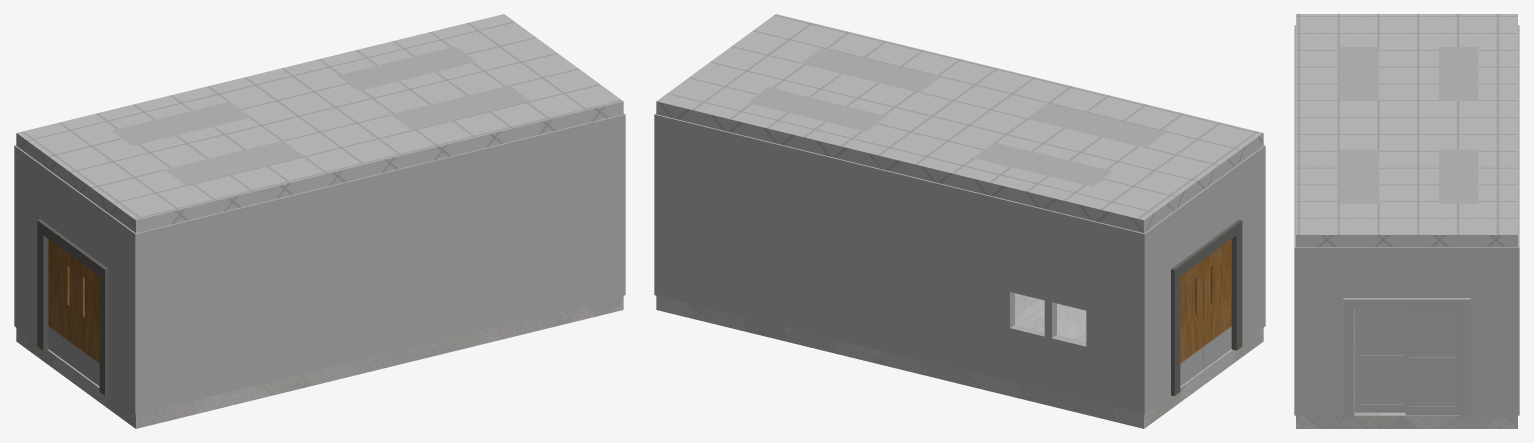
Rendered from Room.fbx.
3 views of the same model, side by side, from view 1: azimuth 30°, elevation 25°; view 2: azimuth 150°, elevation 25°; view 3: azimuth 270°, elevation 25° (orthographic). The views are drawn at different scales.
Visible parts, largest first — view 1: Cube, Cube.004, Slice.006, Cube.003, Slice.002, Slice.003, Slice.007; view 2: Cube, Cube.004, Cube.003, Slice.006, Slice.002, Slice.007, Slice.003; view 3: Cube.004, Cube, Slice.006, Slice.010, Slice, Slice.001, Cube.003, Slice.009, Slice.004.
Part boxes in pixels (left/top/right/bottom): Cube: left=14, top=113, right=625, bottom=414; Cube.004: left=16, top=14, right=623, bottom=232; Slice.006: left=111, top=46, right=529, bottom=185; Cube.003: left=16, top=295, right=623, bottom=428; Slice.002: left=37, top=219, right=108, bottom=395; Slice.003: left=48, top=239, right=76, bottom=368; Slice.007: left=76, top=260, right=99, bottom=386; Cube: left=654, top=113, right=1265, bottom=414; Cube.004: left=656, top=14, right=1263, bottom=232; Cube.003: left=656, top=293, right=1263, bottom=428; Slice.006: left=747, top=48, right=1166, bottom=186; Slice.002: left=1171, top=219, right=1242, bottom=396; Slice.007: left=1203, top=239, right=1231, bottom=368; Slice.003: left=1180, top=260, right=1203, bottom=386; Cube.004: left=1296, top=14, right=1517, bottom=246; Cube: left=1294, top=25, right=1519, bottom=415; Slice.006: left=1339, top=47, right=1478, bottom=203; Slice.010: left=1409, top=312, right=1455, bottom=406; Slice: left=1358, top=310, right=1404, bottom=403; Slice.001: left=1343, top=298, right=1470, bottom=416; Cube.003: left=1296, top=309, right=1517, bottom=428; Slice.009: left=1405, top=309, right=1459, bottom=415; Slice.004: left=1354, top=309, right=1405, bottom=412.
Bounding box in the file's own units: 8.64 × 3.65 × 3.47.
